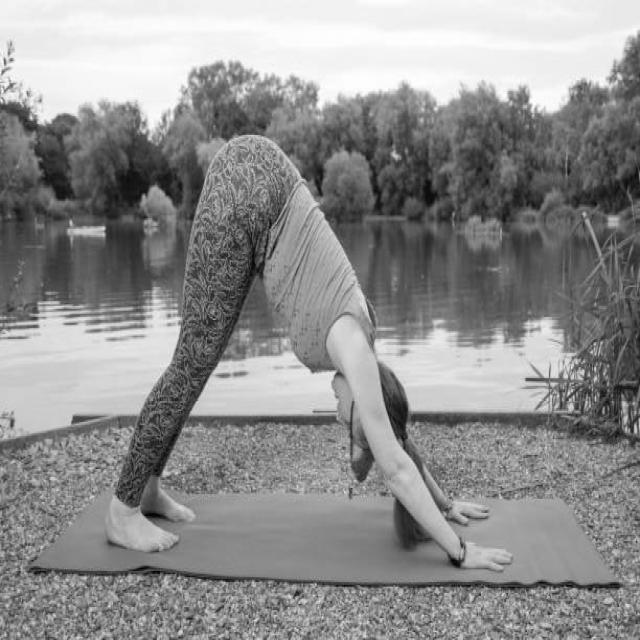Downward-Facing_Dog: (97, 118, 524, 577)
